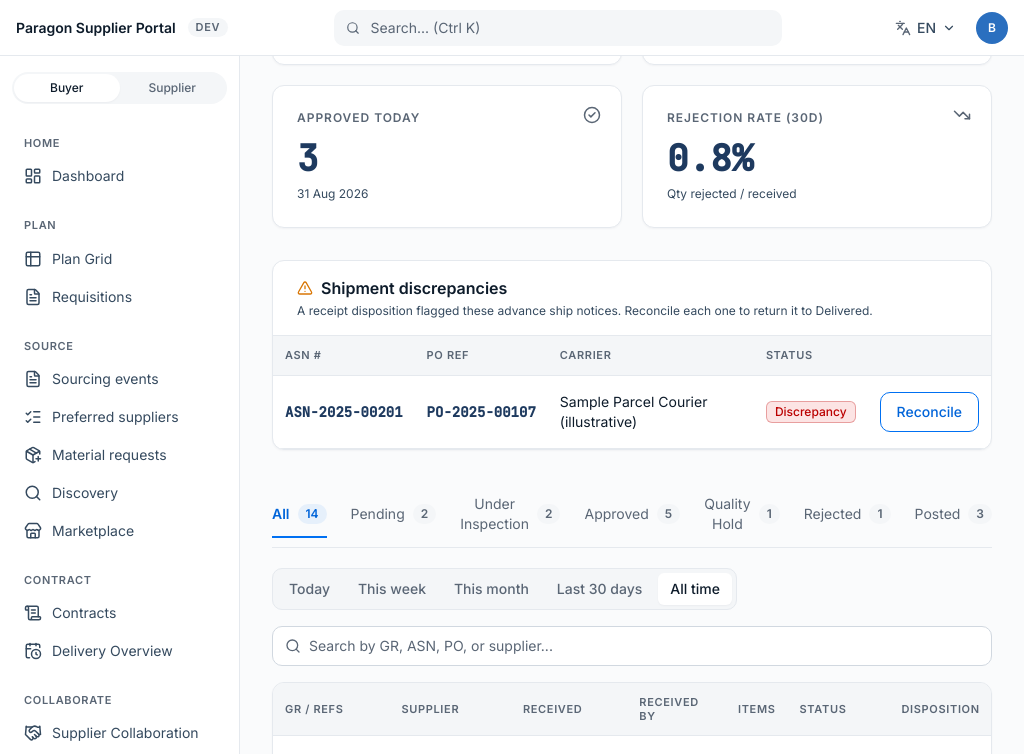
the held seat resolves it, and the ASN actually moves › and the row leaves the list — the surface re-derives, it does not keep a copy
(page scrolled)
Check: the text "Rejection Rate (30d)" is shown, box [667,110,824,125]
Click the button "Reconcile".
click(929, 412)  # box [880,392,979,432]
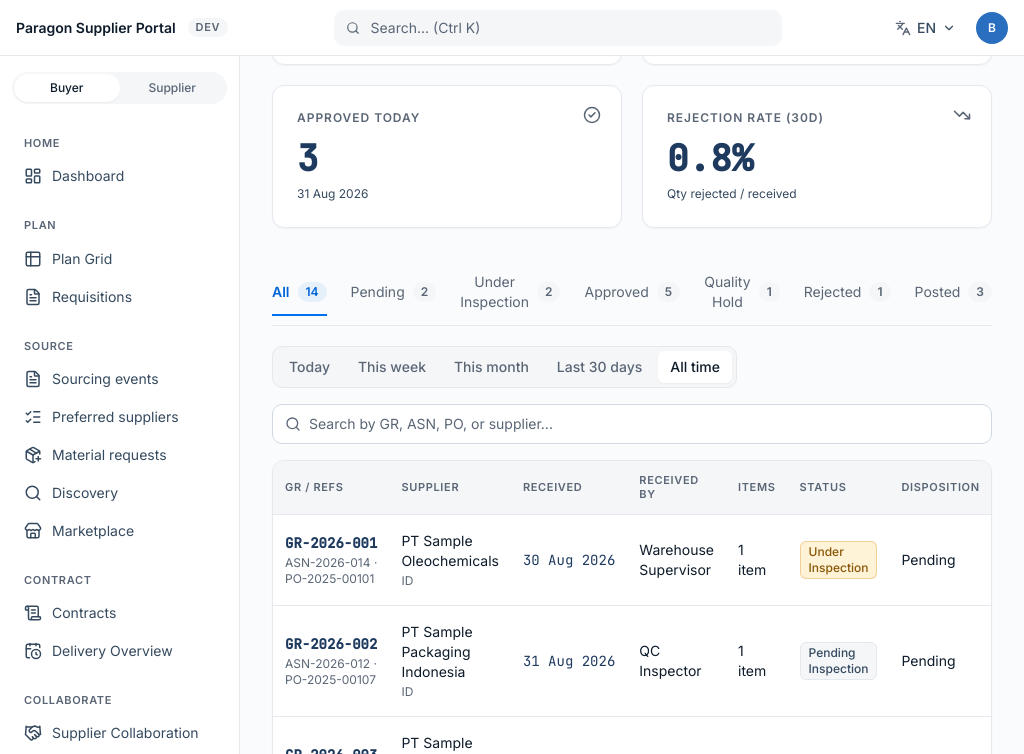
Check: the element with test id "gr-asn-discrepancies" is gone
